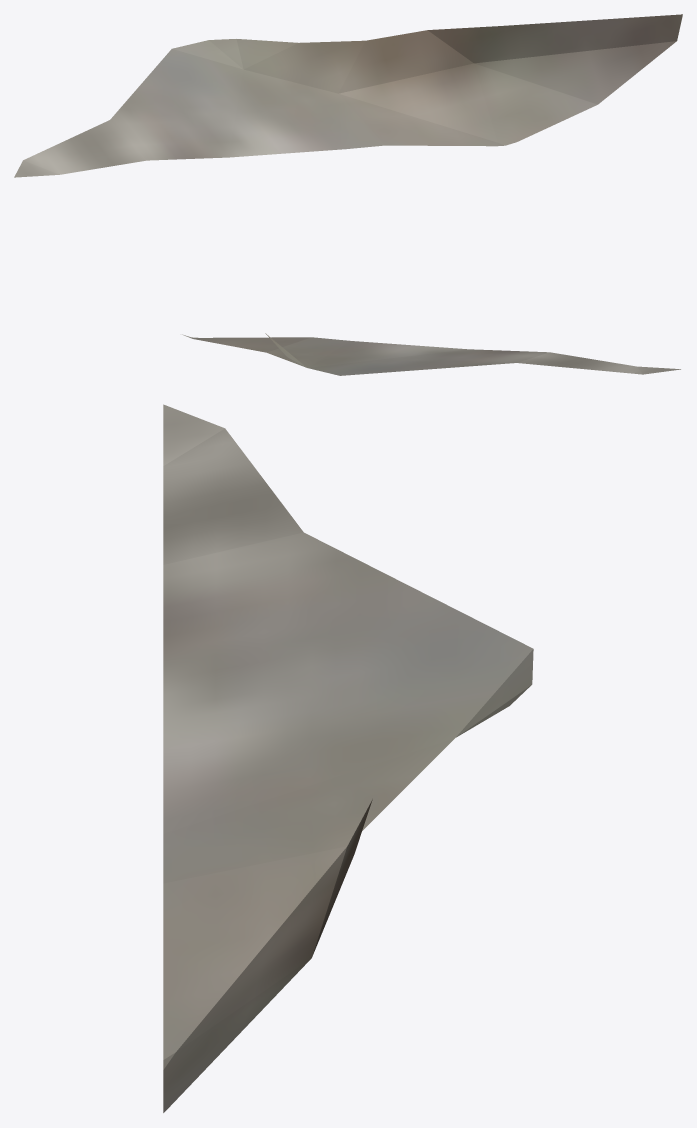
3 views of the same model, one above another, from view 1: azimuth 30°, elevation 25°; view 2: azimuth 150°, elevation 25°; view 3: azimuth 270°, elevation 25° (orthographic). The views are drawn at different scales.
Size of the model in its own units: 0.1992 by 0.0251 by 0.0477.
1 material, 1 textured.
